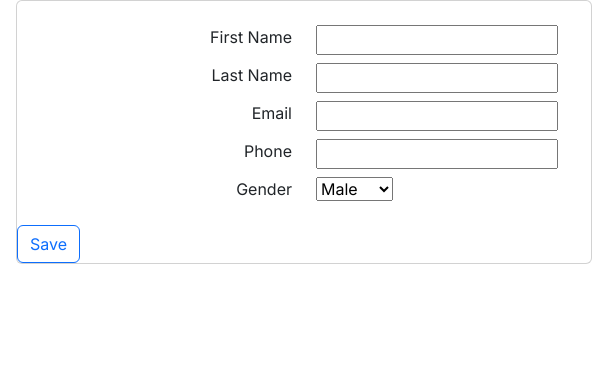
EmployeeAddEditForm component › validates required fields
Click the button "Save" at (48, 244), box x1=17 y1=225 x2=80 y2=263
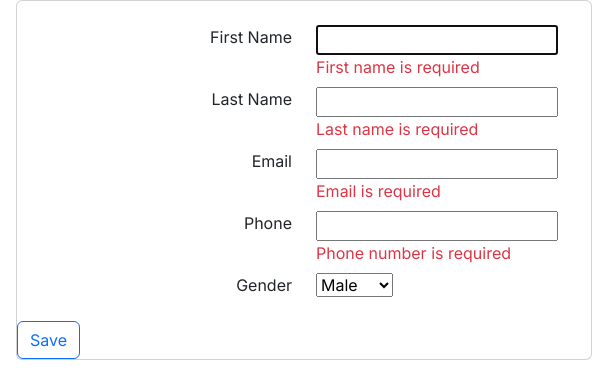
Result: the text "First name is required" is shown at x1=316 y1=57 x2=480 y2=77
Result: the text "Last name is required" is shown at x1=316 y1=119 x2=478 y2=139
Result: the text "Email is required" is shown at x1=316 y1=181 x2=441 y2=201
